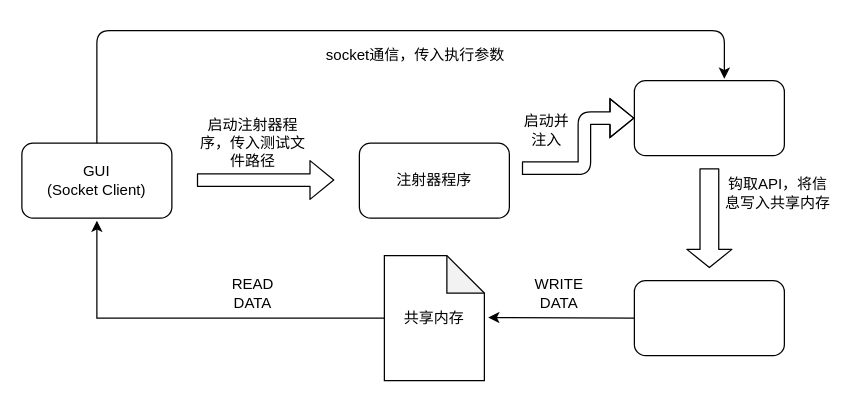
Some shapes in this 856 by 403 pixel diagram are drawn without their labels. Here are the shapes that lost their labels. From the top down, the centre of each, then its label:
At point (708, 117): "测试程序 (Socket Server)".
At point (708, 317): "Dllmain(Detours)".
